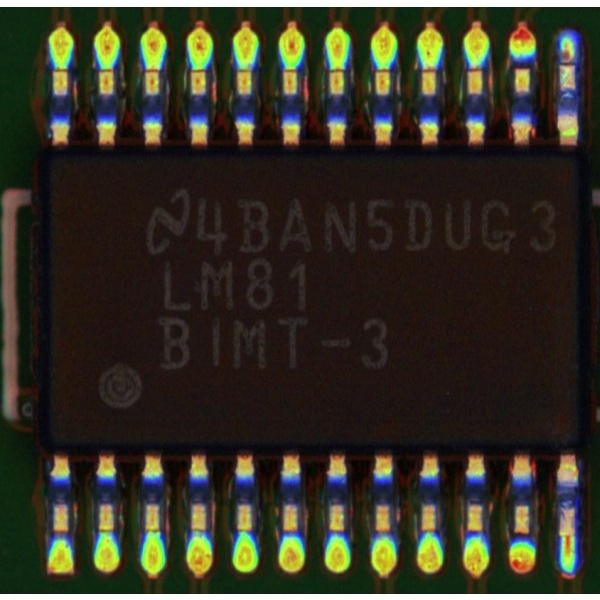Bad_podu: (564, 48, 575, 77), (564, 523, 574, 549)
